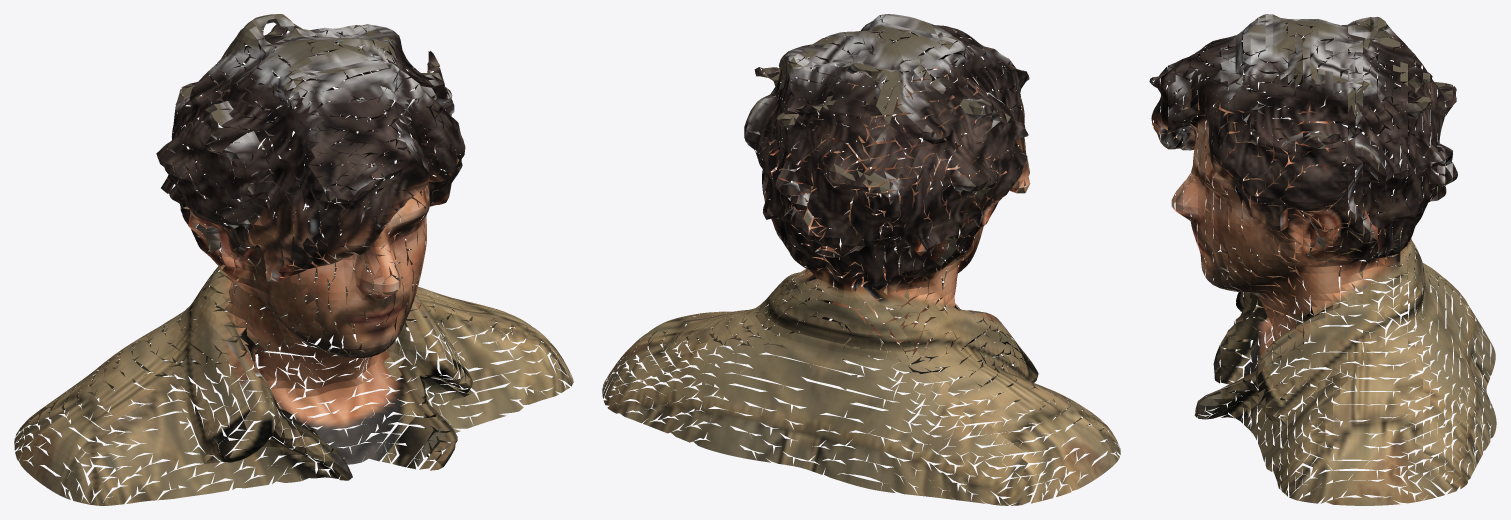
The model's file is body.fbx.
The picture shows the model from 3 angles, left to right: view 1: azimuth 30°, elevation 25°; view 2: azimuth 150°, elevation 25°; view 3: azimuth 270°, elevation 25°; orthographic projection. The views are drawn at different scales.
Parts seen in each view (by area): view 1: geometry_0; view 2: geometry_0; view 3: geometry_0.
Part boxes in pixels (<box>): geometry_0: <box>14,14,573,505</box>; geometry_0: <box>602,14,1120,505</box>; geometry_0: <box>1149,14,1496,505</box>.
Size of the model in its own units: 56.94 by 41.85 by 36.41.
Materials: 1 (1 with a texture image).
